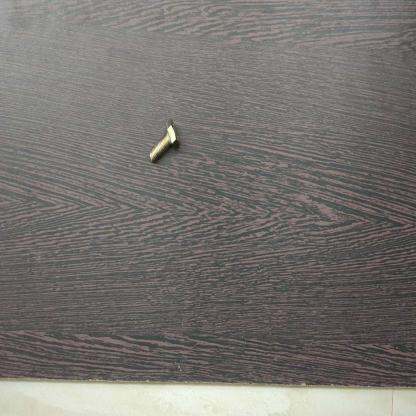Bolts: (144, 114, 182, 169)
